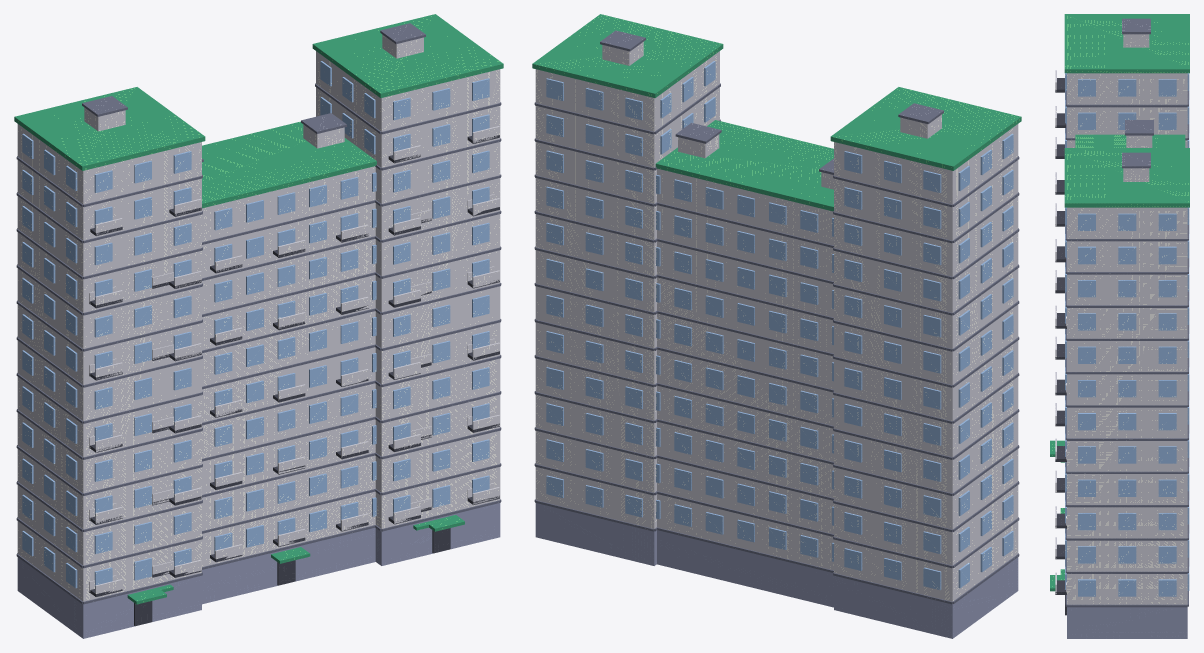
Rendered from panel-3x1-l3.glb.
3 renders of one model, left to right at view 1: azimuth 30°, elevation 25°; view 2: azimuth 150°, elevation 25°; view 3: azimuth 270°, elevation 25°, orthographic. The views are drawn at different scales.
Visible parts, largest first — view 1: panel-3x1-l3; view 2: panel-3x1-l3; view 3: panel-3x1-l3.
Part boxes in pixels (box(x1,y1,x2,y2)): panel-3x1-l3: box(14, 14, 503, 638); panel-3x1-l3: box(532, 14, 1021, 638); panel-3x1-l3: box(1050, 14, 1189, 638).
Bounding box in the file's own units: 5.86 × 6.53 × 1.83.
Materials: 1 (1 with a texture image).
